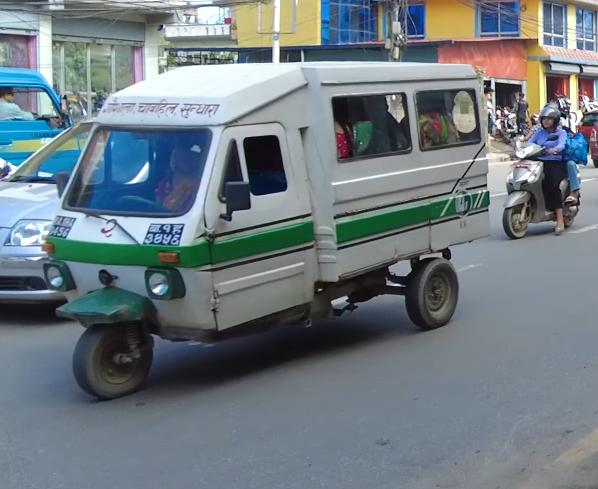scooter: (501, 129, 585, 240)
tempo: (39, 55, 498, 409)
